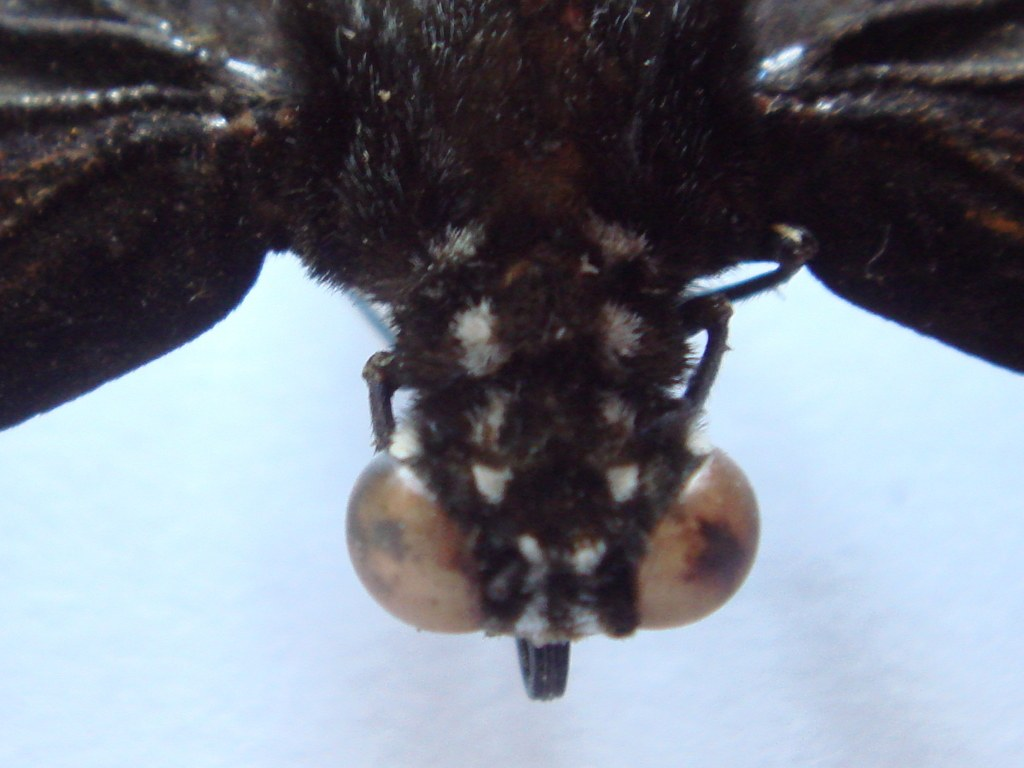insect: (0, 1, 1023, 707)
